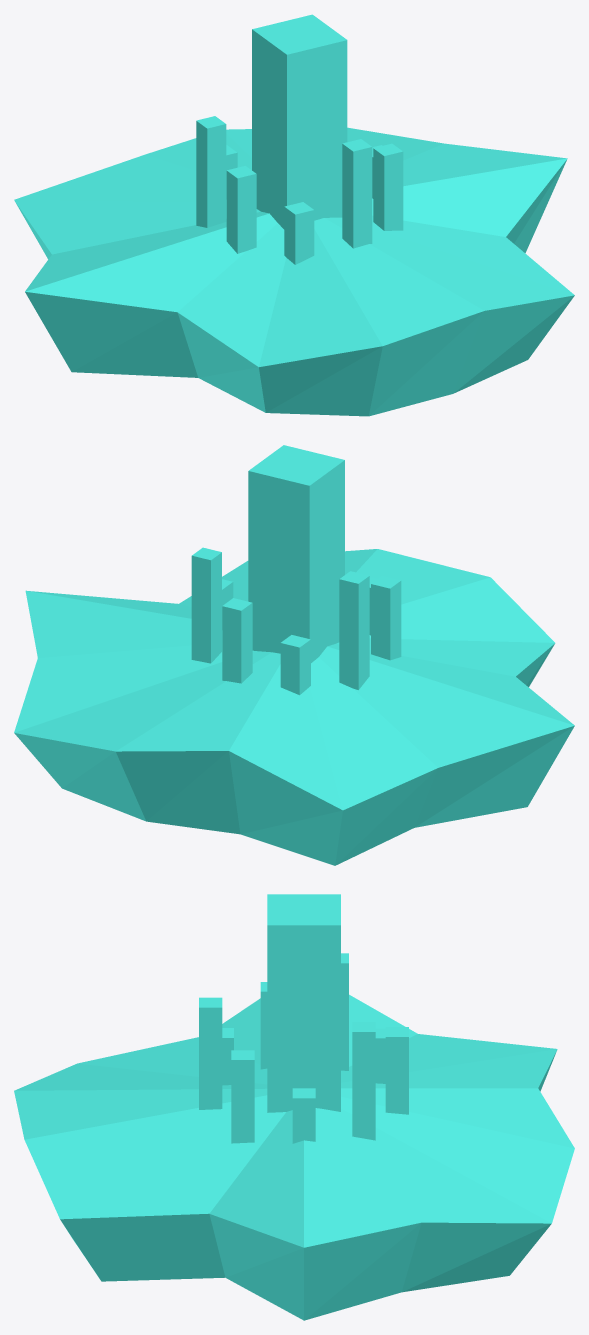
The model's file is region-grove.glb.
The picture shows the model from 3 angles, top to bottom: view 1: azimuth 30°, elevation 25°; view 2: azimuth 150°, elevation 25°; view 3: azimuth 270°, elevation 25°; orthographic projection. The views are drawn at different scales.
Visible parts, largest first — view 1: ATLAS demo region: grove; view 2: ATLAS demo region: grove; view 3: ATLAS demo region: grove.
Boxes of the visible parts, x1,y1,x2,y2 form: ATLAS demo region: grove: [14, 14, 574, 416]; ATLAS demo region: grove: [14, 445, 574, 865]; ATLAS demo region: grove: [14, 894, 574, 1320].
Size of the model in its own units: 6.28 by 3.2 by 5.32.
